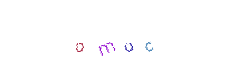C: (83, 0, 163, 80)
M: (75, 0, 155, 80)
O: (39, 0, 119, 80), (79, 0, 159, 80)
